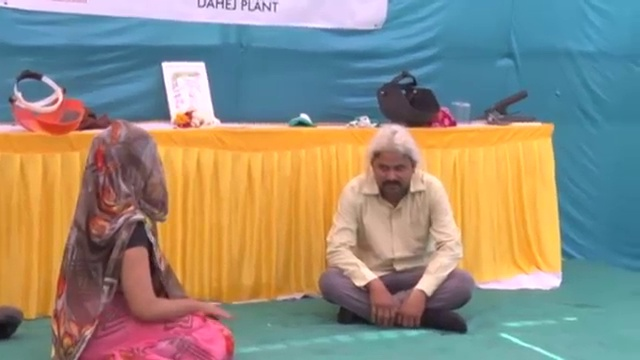helmet_off: (81, 126, 168, 220), (369, 129, 419, 200)
person: (46, 117, 235, 360), (315, 123, 478, 334)
